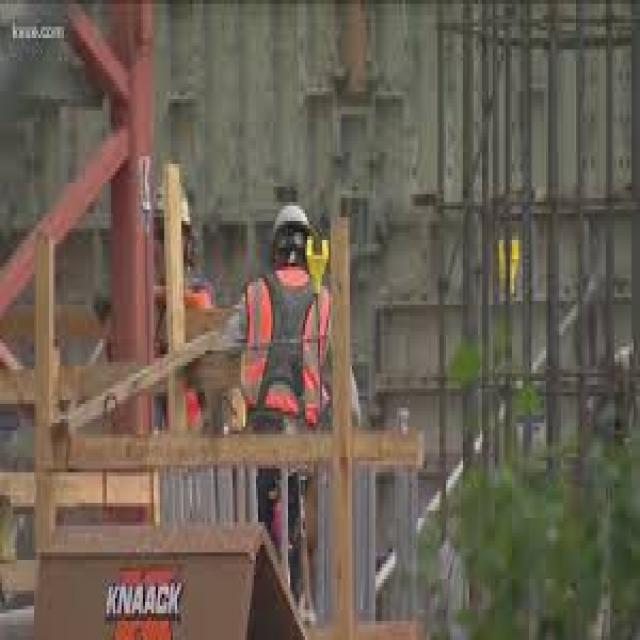Reflective-Jacket: (237, 263, 339, 438)
Safety-Helmet: (260, 187, 318, 263)
